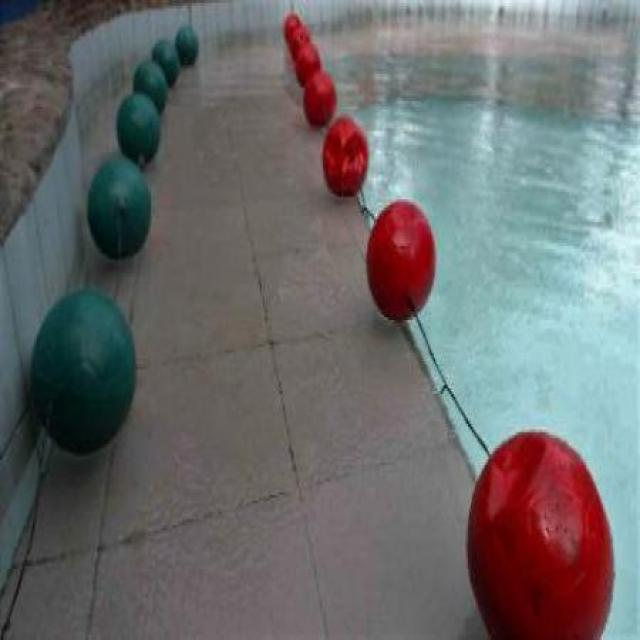buoy: (464, 428, 615, 639), (29, 289, 137, 455), (365, 197, 439, 322), (87, 152, 151, 258), (321, 113, 369, 198), (116, 90, 161, 162), (132, 59, 167, 116), (302, 70, 336, 126), (294, 39, 322, 86), (152, 38, 177, 88), (176, 25, 197, 63)
